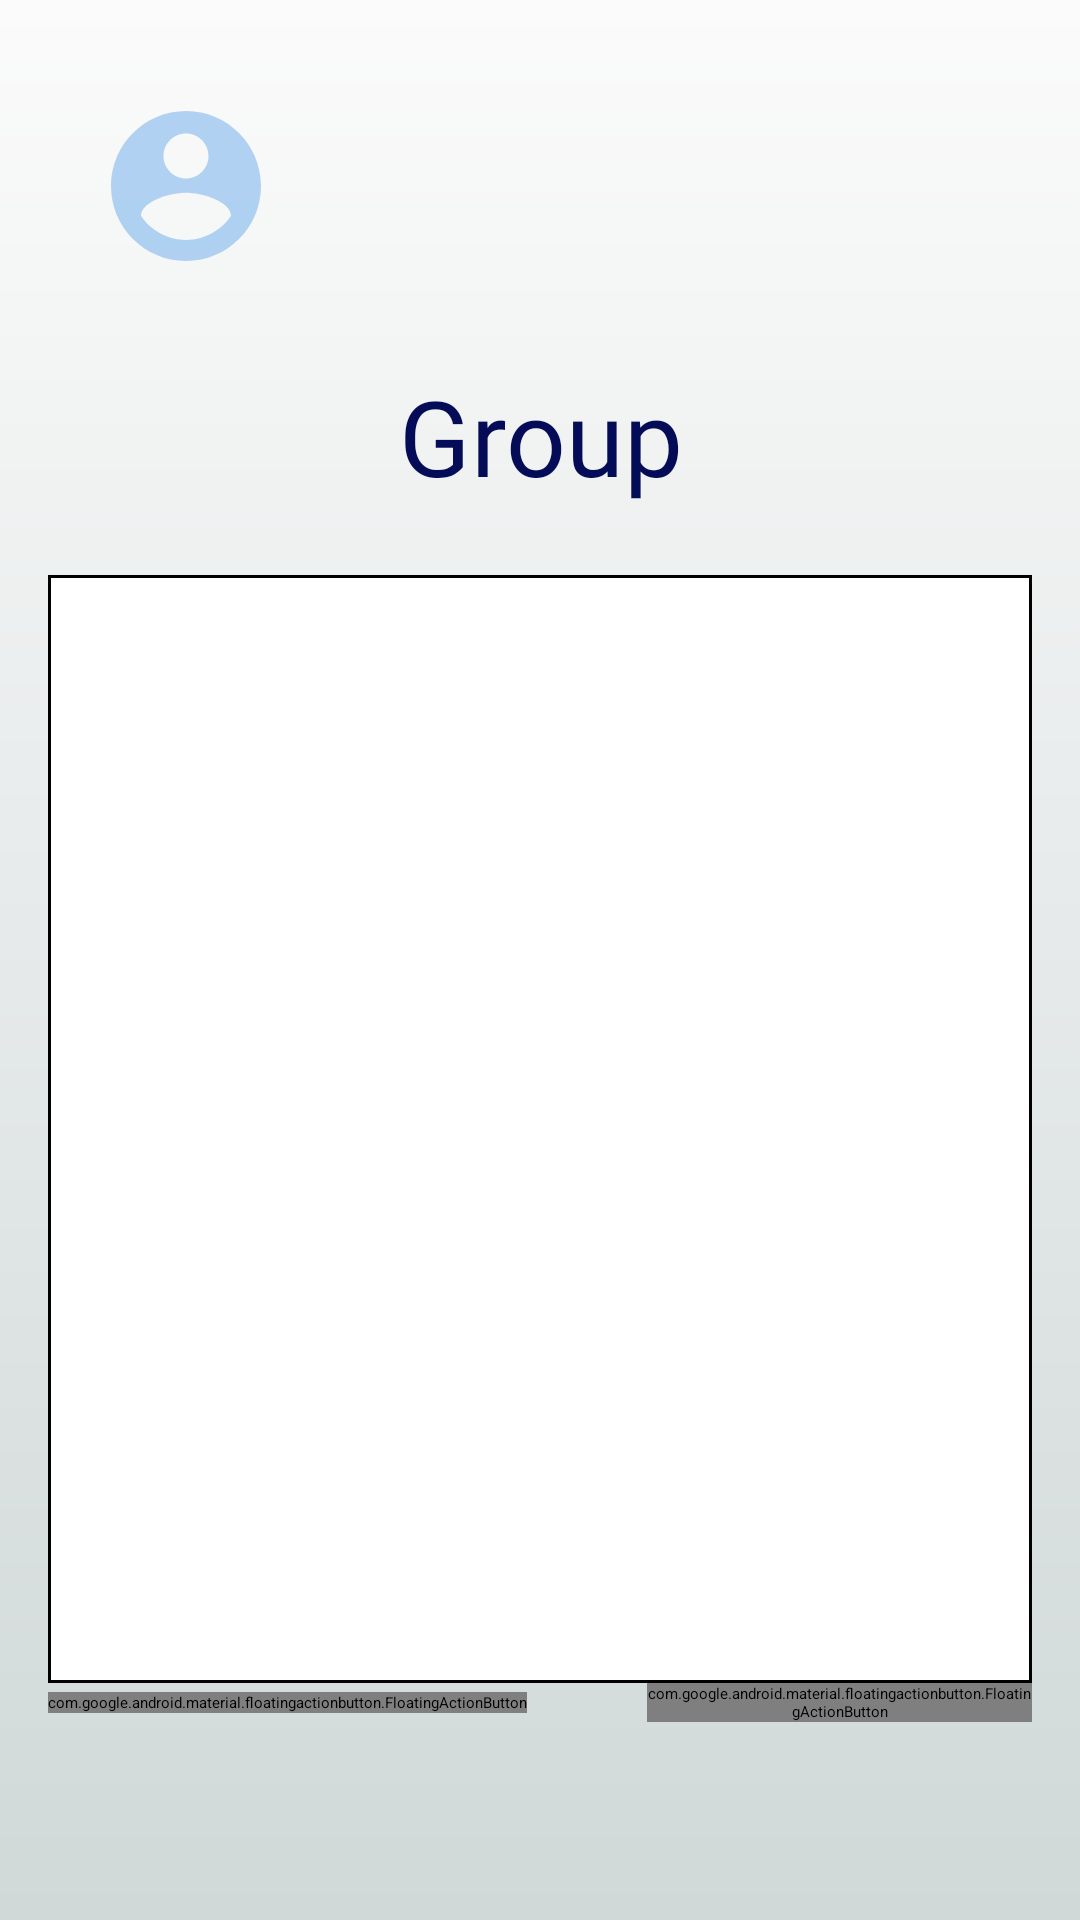

Locate icon controls on the screen. Image size 1080 × 1920, boxes as {"left": x1, "top": y1, "right": x2, "bottom": y2}.
Profile Icon: {"left": 111, "top": 111, "right": 261, "bottom": 261}
